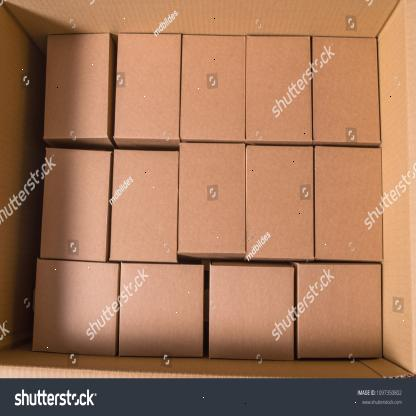box: (31, 260, 119, 356), (296, 262, 383, 358), (209, 265, 294, 362), (40, 146, 110, 261), (314, 146, 383, 262), (120, 262, 204, 356), (109, 149, 178, 262), (179, 141, 246, 257), (312, 34, 380, 145), (249, 148, 315, 259), (247, 34, 314, 142), (43, 34, 111, 140), (115, 33, 180, 143), (179, 35, 246, 141)
